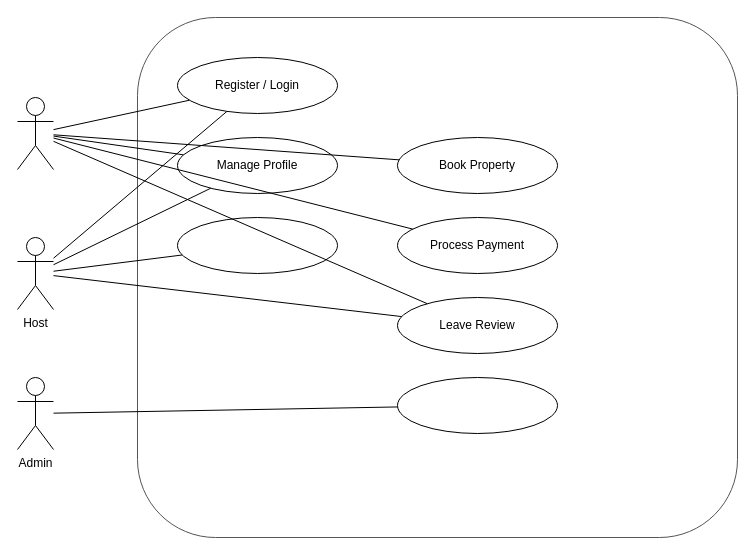
The diagram is 755 pixels wide and 555 high, and some of its shapes have lost their labels. The centre of each missing label's shape, as x and y in pixels:
"Guest" goes at (35,133).
"List Property" goes at (257,245).
"Manage Users" goes at (477,405).
